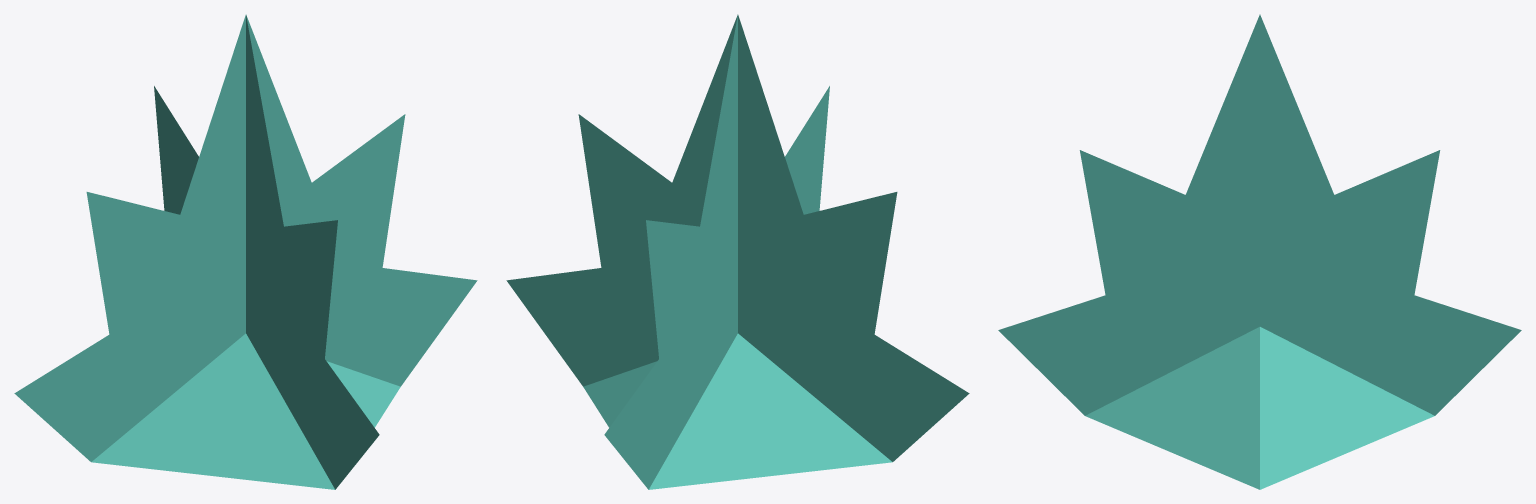
The model's file is plant_flatShort.glb.
3 renders of one model, left to right at view 1: azimuth 30°, elevation 25°; view 2: azimuth 150°, elevation 25°; view 3: azimuth 270°, elevation 25°, orthographic. The views are drawn at different scales.
Visible parts, largest first — view 1: plant_flatShort; view 2: plant_flatShort; view 3: plant_flatShort.
Boxes of the visible parts, bbox=[...] form: plant_flatShort: bbox=[14, 14, 477, 489]; plant_flatShort: bbox=[506, 14, 969, 489]; plant_flatShort: bbox=[998, 14, 1521, 489].
Bounding box in the file's own units: 0.2776 × 0.2351 × 0.2776.
